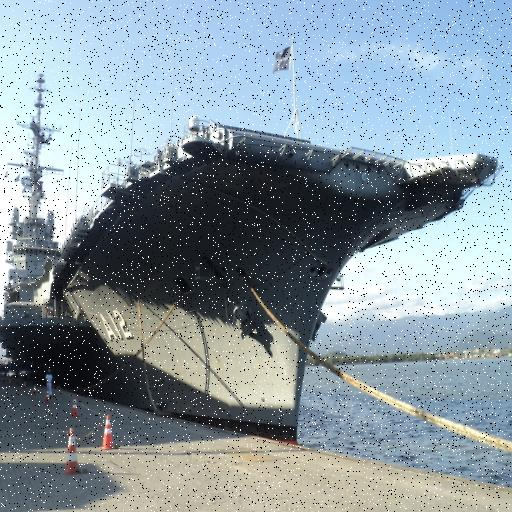Portanaves: (1, 29, 503, 478)
